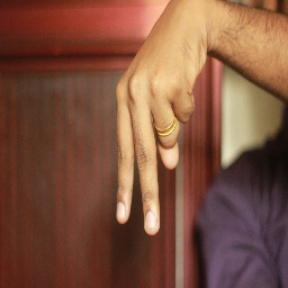Y: (104, 41, 205, 240)
